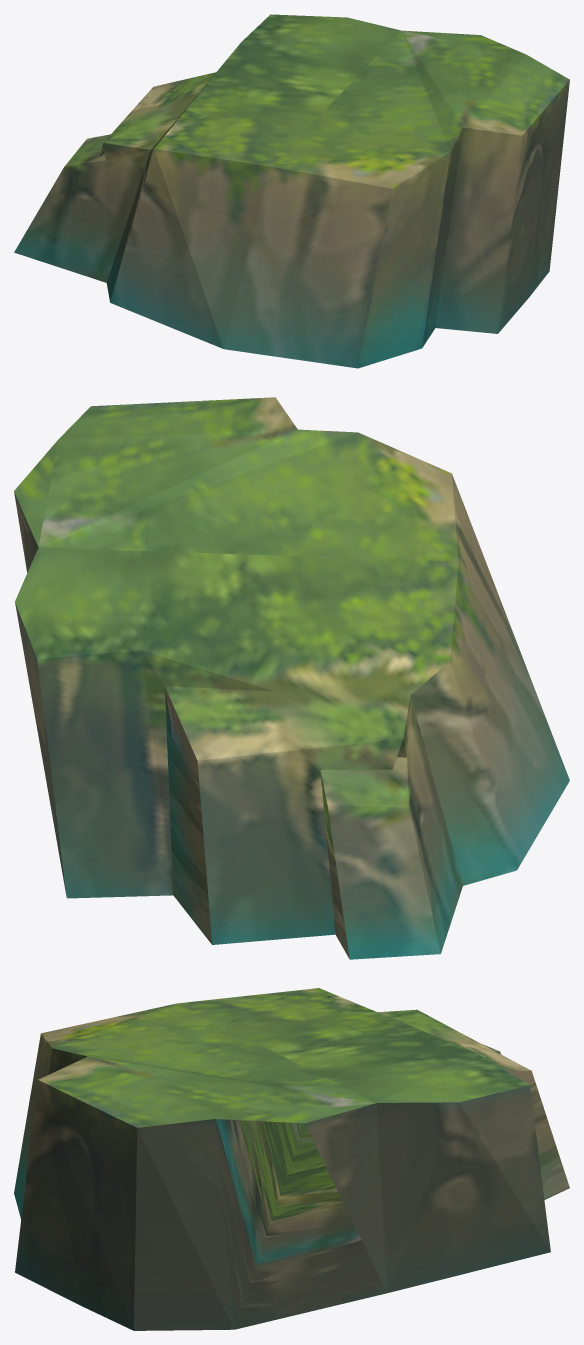
The model's file is scenes_beach_rock02b.FBX.
3 renders of one model, top to bottom at view 1: azimuth 30°, elevation 25°; view 2: azimuth 150°, elevation 25°; view 3: azimuth 270°, elevation 25°, orthographic. The views are drawn at different scales.
Visible parts, largest first — view 1: scenes_beach_rock02b; view 2: scenes_beach_rock02b; view 3: scenes_beach_rock02b.
Boxes of the visible parts, x1,y1,x2,y2 form: scenes_beach_rock02b: (14, 14, 569, 368); scenes_beach_rock02b: (14, 397, 569, 959); scenes_beach_rock02b: (14, 988, 569, 1330).
Size of the model in its own units: 490 by 218 by 503.
